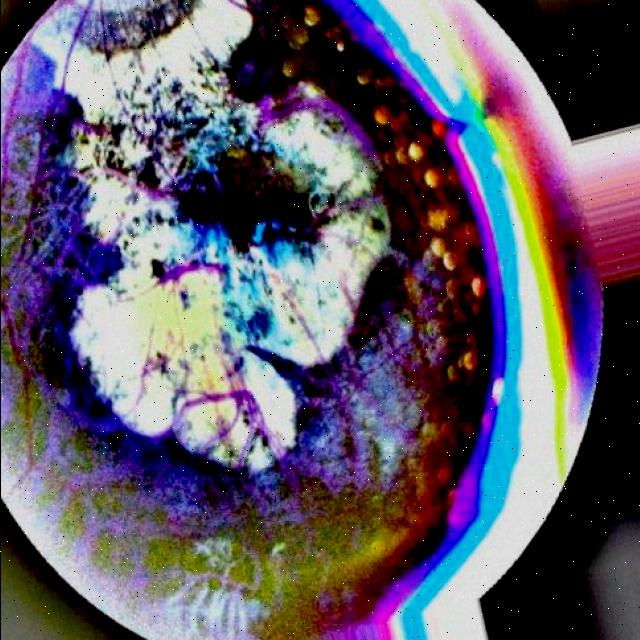Optic Disk: (59, 0, 190, 50)
